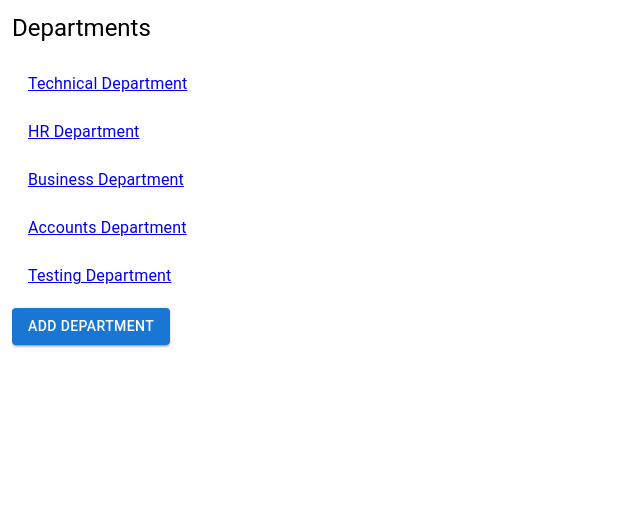
Test: Department Management - Task › should add a new department
Click the button "Add Department": (91,327) [12,308,170,345]
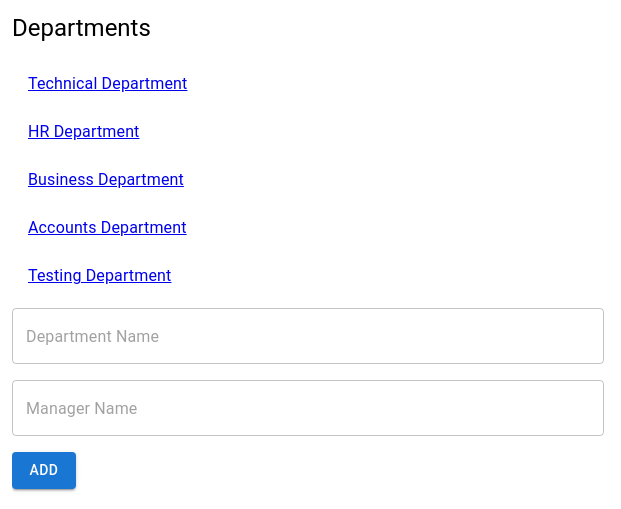
expect the field with placeholder "Department Name" is shown: met
In the field with placeholder "Department Name": (308,336) [12,308,604,364], type "New Department"
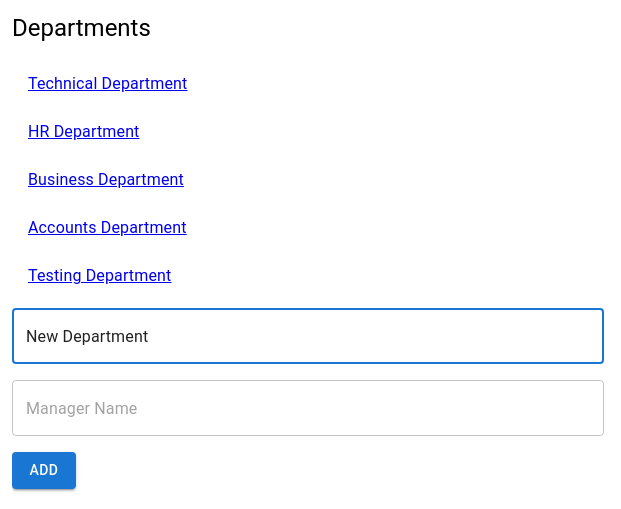
expect the field with placeholder "Manager Name" is shown: met
In the field with placeholder "Manager Name": (308,408) [12,380,604,436], type "Sathya"
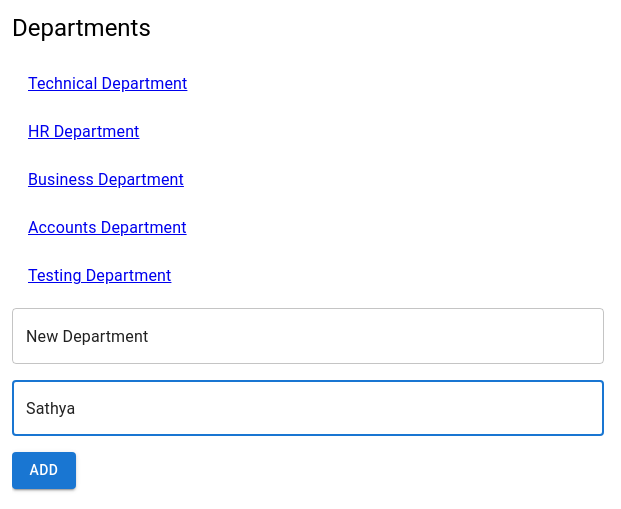
Click the button "Add": (44,471) [12,452,76,489]
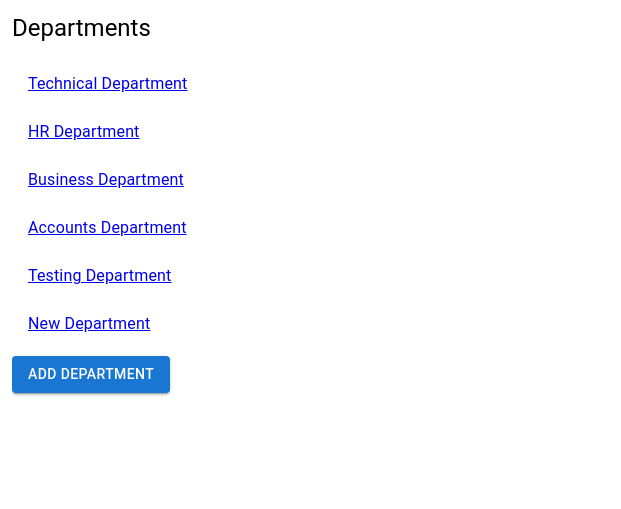
expect the text with class "department-item" reads "New Department": met, box [28,314,150,333]
